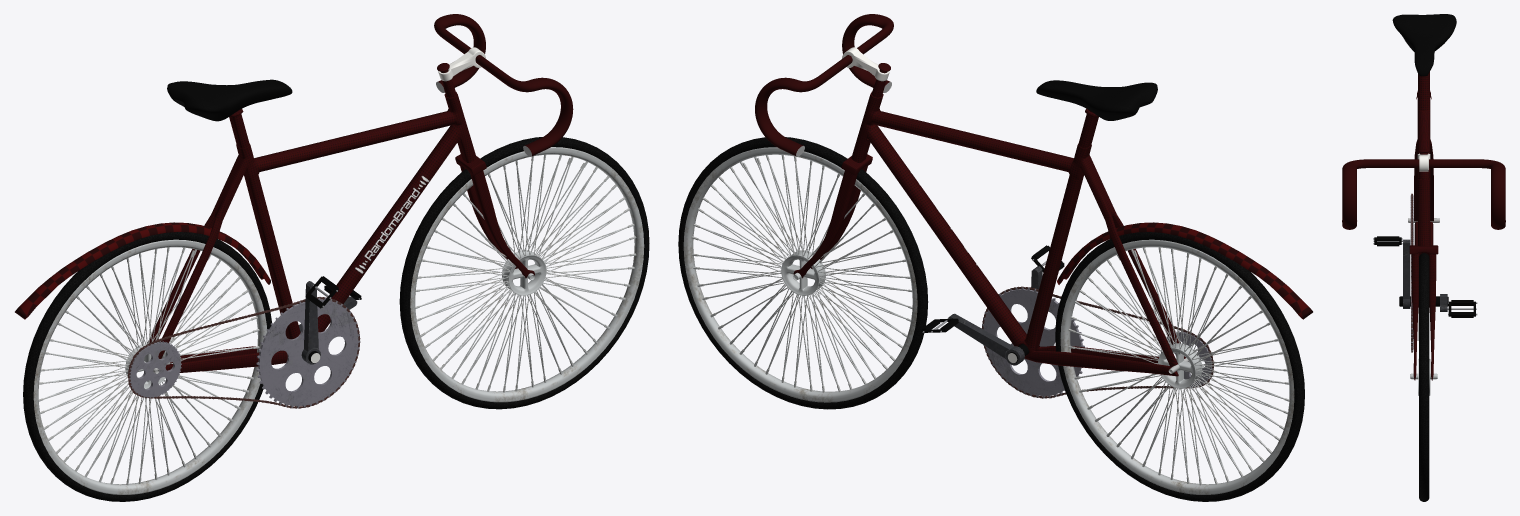
The model's file is road-bicycle.glb.
3 renders of one model, left to right at view 1: azimuth 30°, elevation 25°; view 2: azimuth 150°, elevation 25°; view 3: azimuth 270°, elevation 25°, orthographic. The views are drawn at different scales.
Parts seen in each view (by area): view 1: polySurface1820, polySurface1621, pCube14, polySurface1819, polySurface1901, transform1101_86; view 2: polySurface1820, polySurface1621, pCube14, polySurface1819, polySurface1901, transform1101_86; view 3: pCube14, polySurface1901, polySurface1820, polySurface1819, transform1101_86.
Part boxes in pixels (bbox=[...]): polySurface1820: bbox=[399, 137, 649, 409]; polySurface1621: bbox=[23, 232, 271, 501]; pCube14: bbox=[147, 63, 534, 372]; polySurface1819: bbox=[15, 222, 546, 408]; polySurface1901: bbox=[285, 14, 573, 364]; transform1101_86: bbox=[127, 297, 360, 408]; polySurface1820: bbox=[678, 137, 928, 409]; polySurface1621: bbox=[1055, 232, 1304, 501]; pCube14: bbox=[793, 63, 1185, 376]; polySurface1819: bbox=[781, 222, 1312, 398]; polySurface1901: bbox=[755, 14, 1064, 365]; transform1101_86: bbox=[981, 286, 1213, 398]; pCube14: bbox=[1392, 14, 1456, 380]; polySurface1901: bbox=[1342, 153, 1505, 317]; polySurface1820: bbox=[1419, 253, 1429, 501]; polySurface1819: bbox=[1408, 91, 1439, 395]; transform1101_86: bbox=[1411, 193, 1412, 352].
Bounding box in the file's own units: 2 × 1.19 × 0.5257.
Materials: 5 (5 with a texture image).
